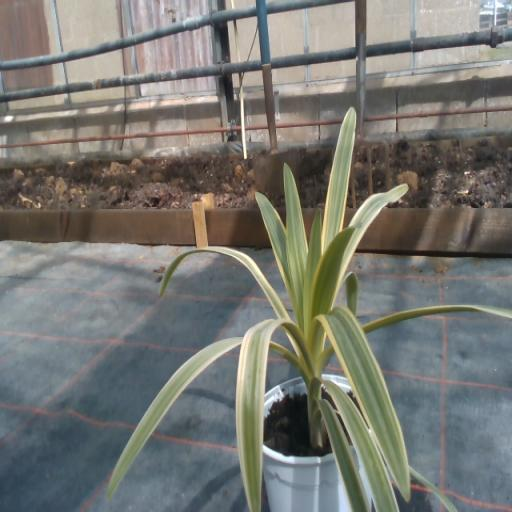Agapanthus-praecox: (107, 338, 242, 498), (306, 307, 410, 498), (236, 319, 314, 511), (314, 380, 397, 510), (159, 247, 289, 319), (337, 185, 406, 290), (315, 400, 369, 511), (322, 108, 356, 247), (362, 305, 511, 333), (310, 228, 354, 317), (284, 166, 306, 326), (257, 193, 290, 292), (304, 211, 321, 333), (270, 343, 298, 365), (344, 272, 358, 314), (320, 346, 334, 363)
